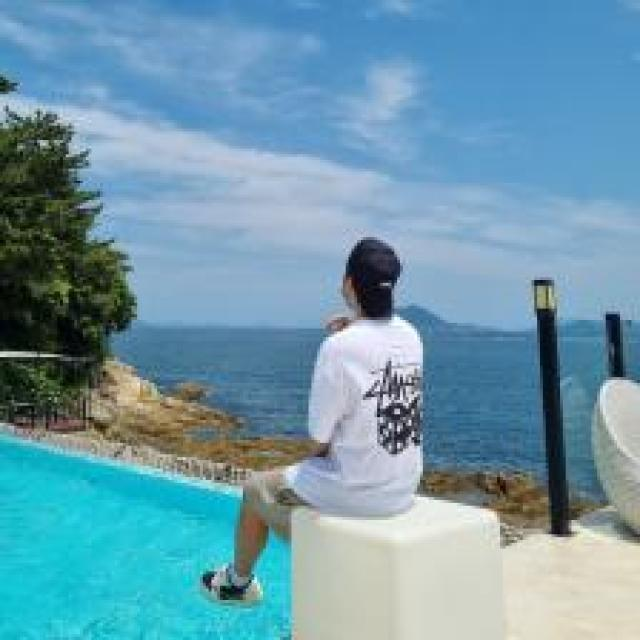shoe: (199, 566, 263, 608)
